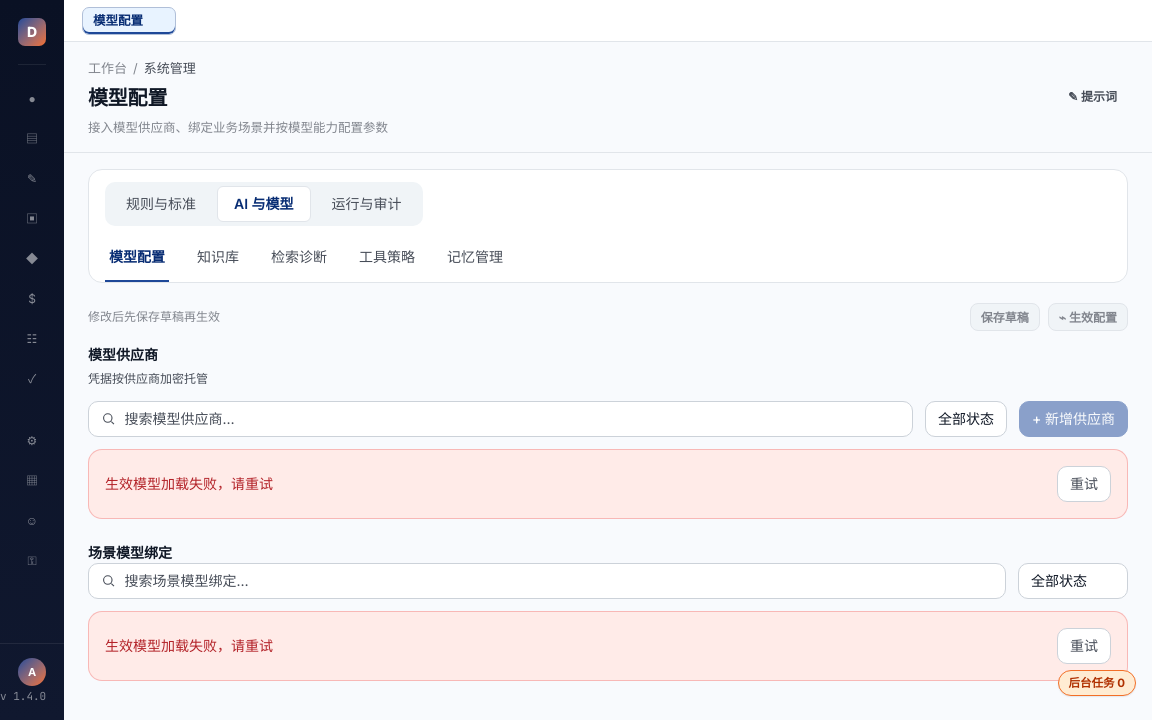
Scenario: ModelConfig · 表格 + 行详情（RP-053） › effective read failure cannot silently promote a draft model to active, and retry refreshes effective state
Click the 1st button "重试": {"x": 1084, "y": 484} [1057,466,1111,502]
(page scrolled)
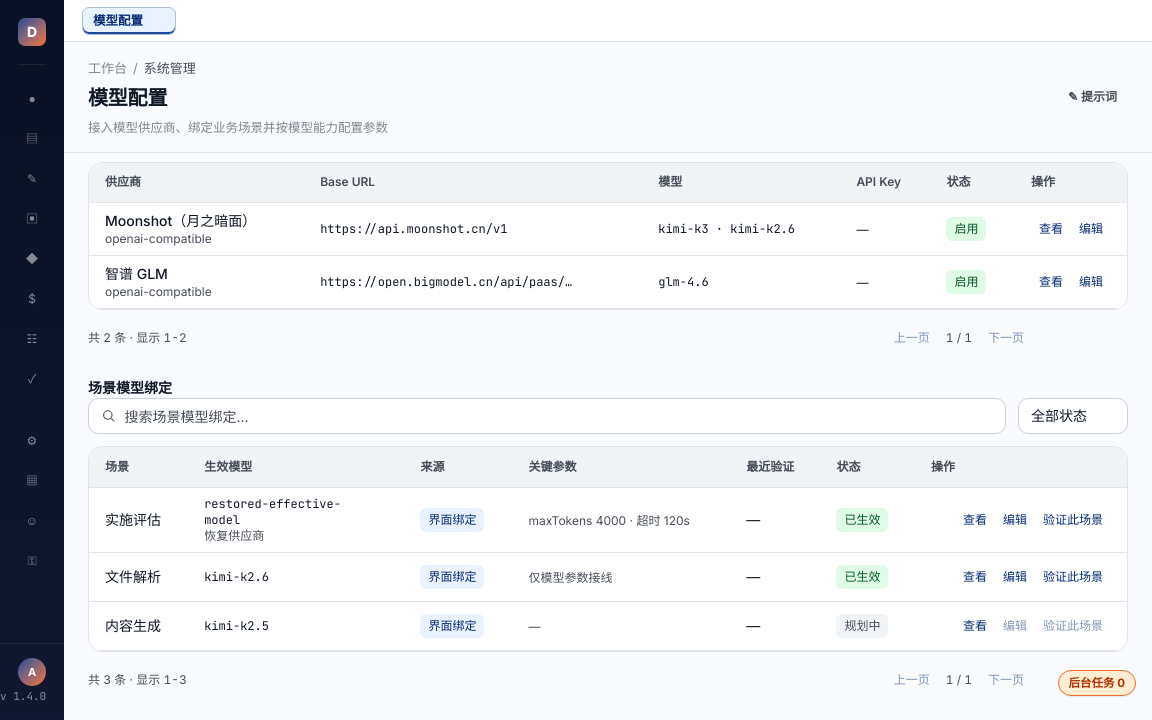
Check: the text "restored-effective-model" is shown, box [204,496,341,528]
Click the button with aria-label "查看 实施评估": {"x": 975, "y": 520} [955,504,995,536]
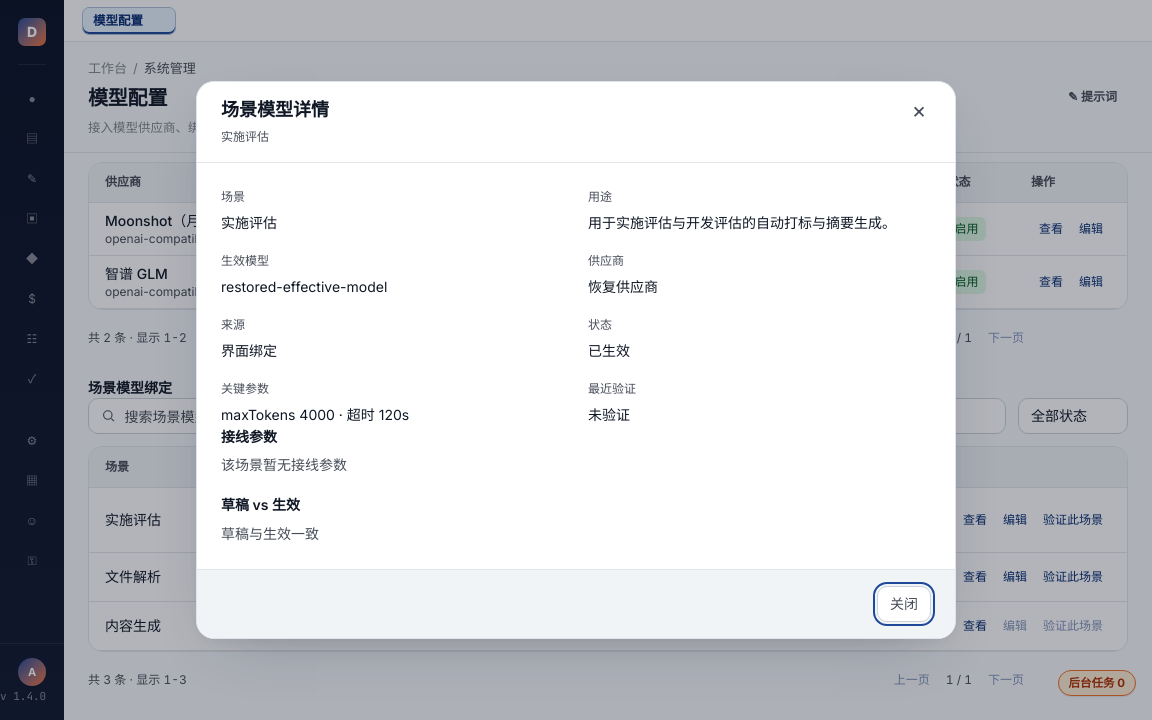
Check: the text "恢复供应商" is shown, box [588,278,658,295]
